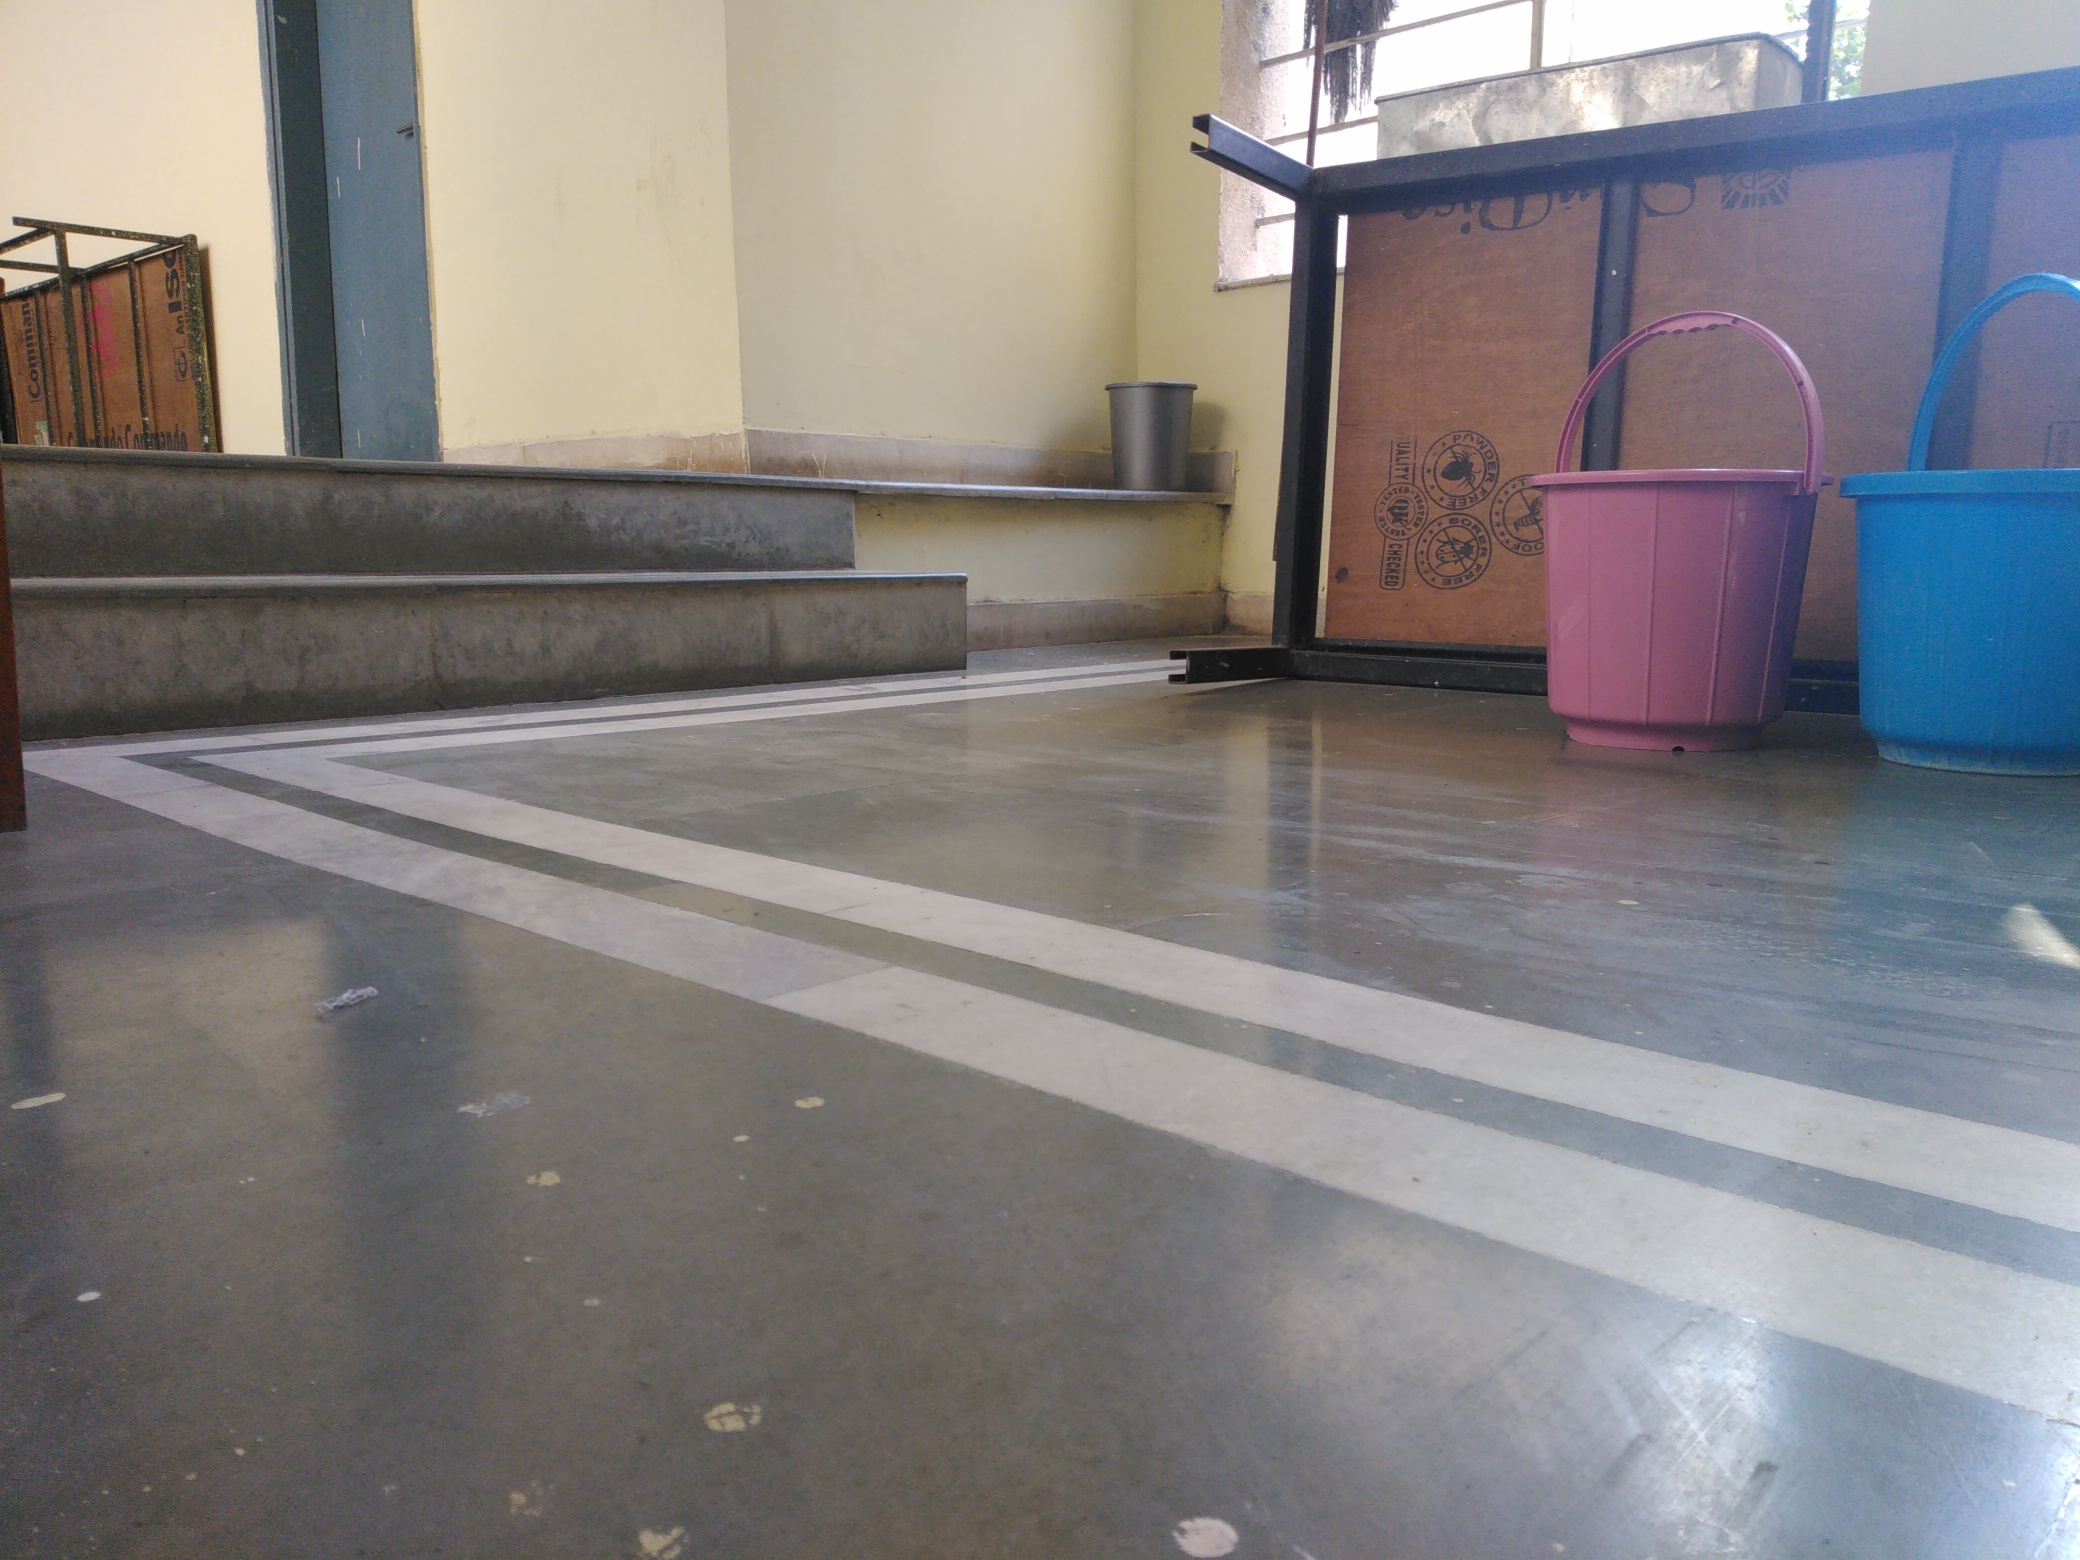stairs_up: (7, 447, 966, 713)
